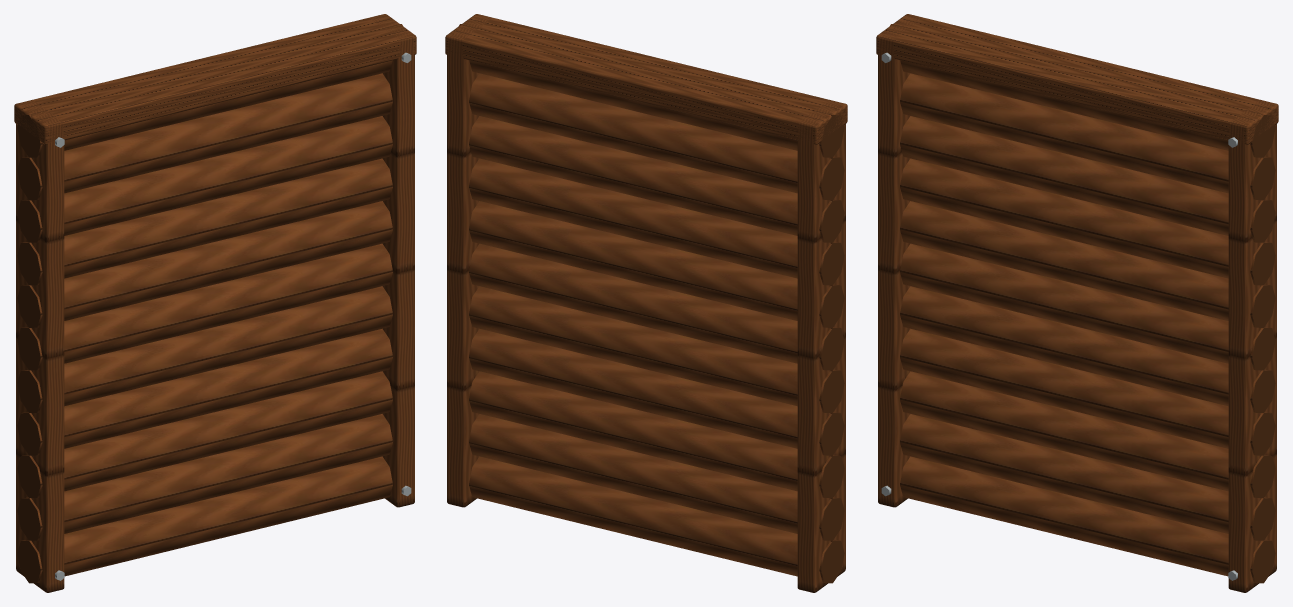
The model's file is modular-survival-base-builder-wall-log-stack-7ffd7bd3__24165.glb.
3 renders of one model, left to right at view 1: azimuth 30°, elevation 25°; view 2: azimuth 150°, elevation 25°; view 3: azimuth 330°, elevation 25°, orthographic.
Visible parts, largest first — view 1: wall-log-stack; view 2: wall-log-stack; view 3: wall-log-stack.
Boxes of the visible parts, left/top/right/bottom form: wall-log-stack: left=14, top=14, right=416, bottom=592; wall-log-stack: left=445, top=14, right=847, bottom=592; wall-log-stack: left=876, top=14, right=1278, bottom=592.
Bounding box in the file's own units: 2 × 2.4 × 0.3215.
Materials: 2 (1 with a texture image).
